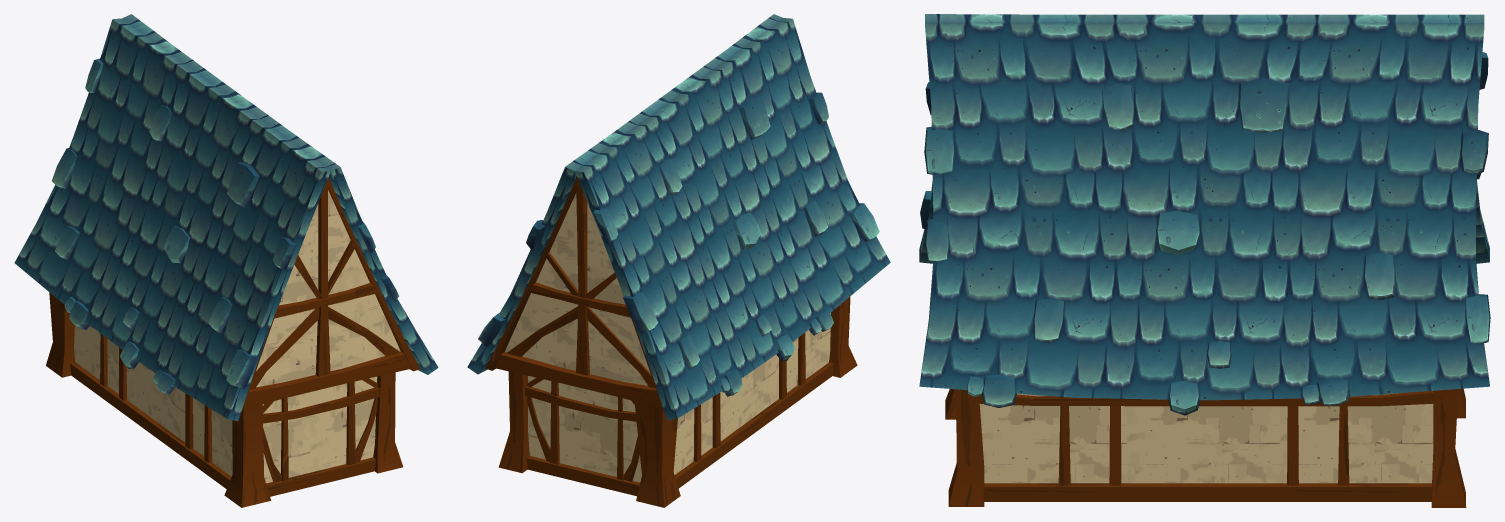
The model's file is maison-2.glb.
3 renders of one model, left to right at view 1: azimuth 30°, elevation 25°; view 2: azimuth 150°, elevation 25°; view 3: azimuth 270°, elevation 25°, orthographic. The views are drawn at different scales.
Visible parts, largest first — view 1: SM_BLD_body_v04_02; view 2: SM_BLD_body_v04_02; view 3: SM_BLD_body_v04_02.
Part boxes in pixels (x1=…): SM_BLD_body_v04_02: x1=14, y1=14, x2=438, y2=507; SM_BLD_body_v04_02: x1=467, y1=14, x2=890, y2=507; SM_BLD_body_v04_02: x1=919, y1=14, x2=1490, y2=507.
Size of the model in its own units: 7.59 by 10.78 by 12.88.
3 materials, 3 textured.
